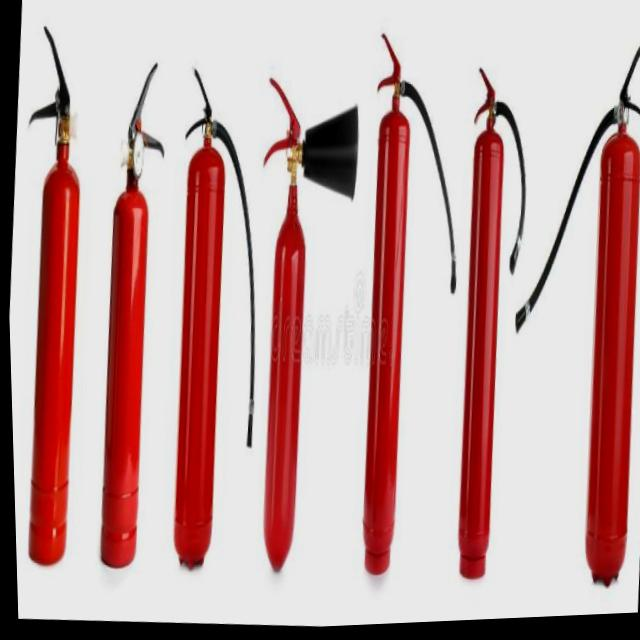FireExtinguisher: (485, 33, 640, 601), (337, 26, 481, 595), (228, 64, 374, 592), (150, 59, 281, 583), (435, 64, 544, 600), (0, 17, 102, 577), (81, 55, 181, 579)
